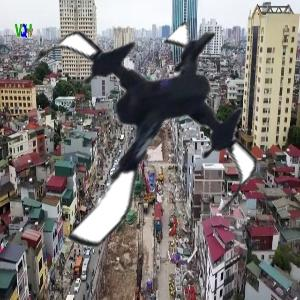drone: (9, 2, 268, 261)
